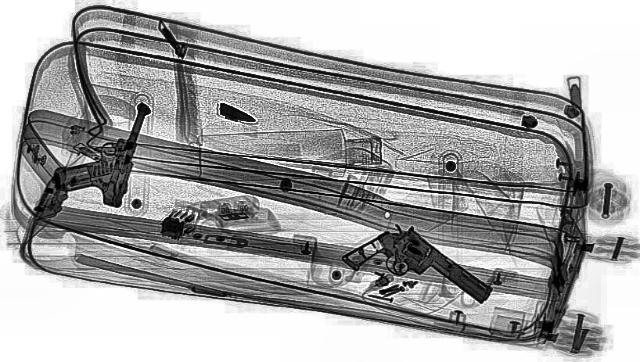Gun: (329, 222, 516, 320), (45, 98, 152, 206)
